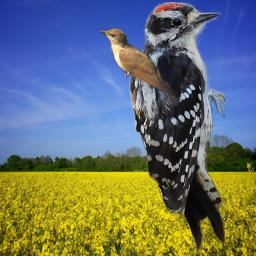Cuckoo: (99, 28, 178, 106)
Woodpecker: (126, 2, 225, 252)
